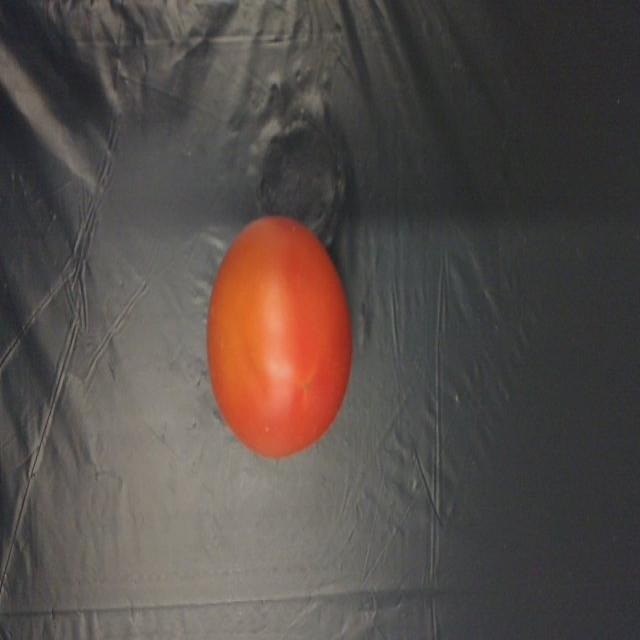sari: (198, 214, 356, 471)
